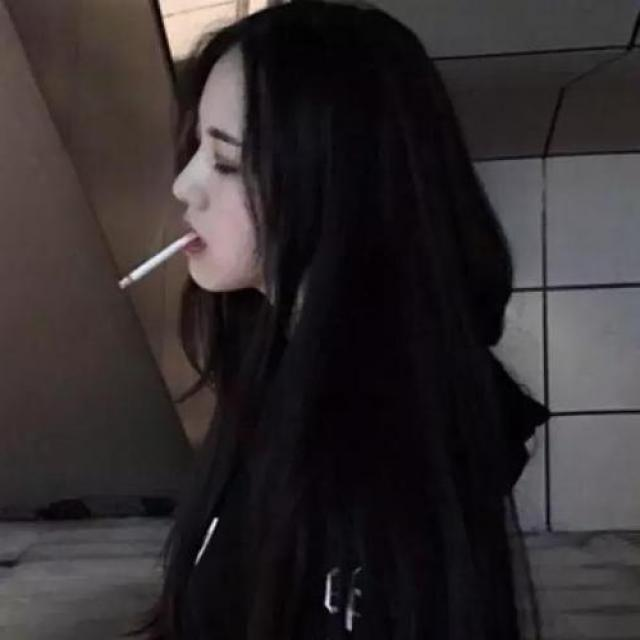smoking: (109, 222, 214, 292)
